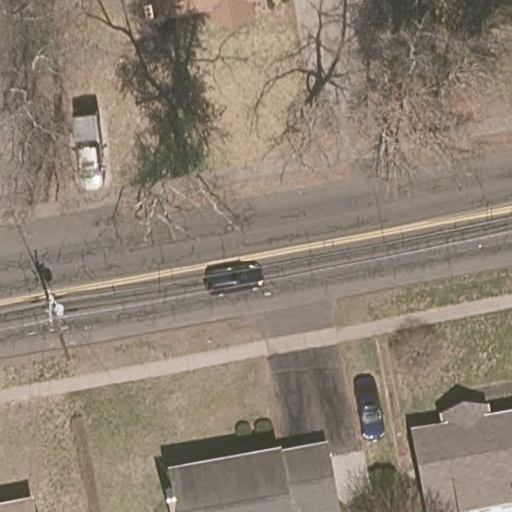DT: (39, 290, 70, 338)
